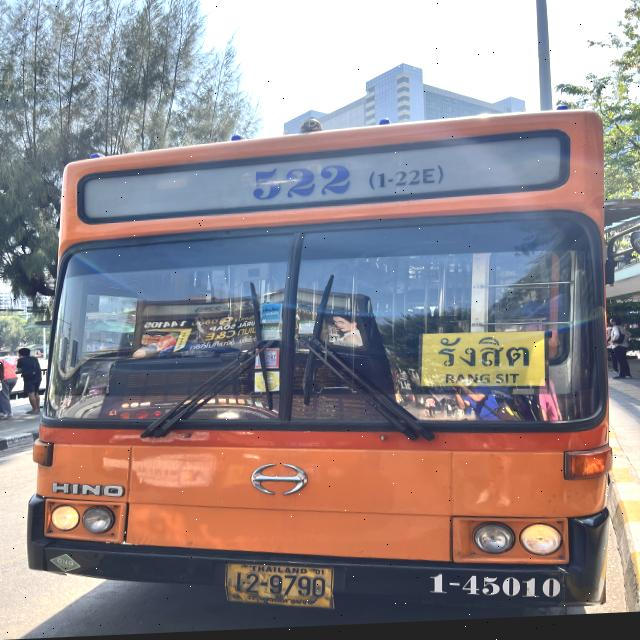BMTA-bus: (26, 116, 618, 622)
Bus Line Number: (237, 155, 448, 205)
Bus Side Number: (426, 567, 562, 610)
Destination Sign: (418, 333, 545, 397)
